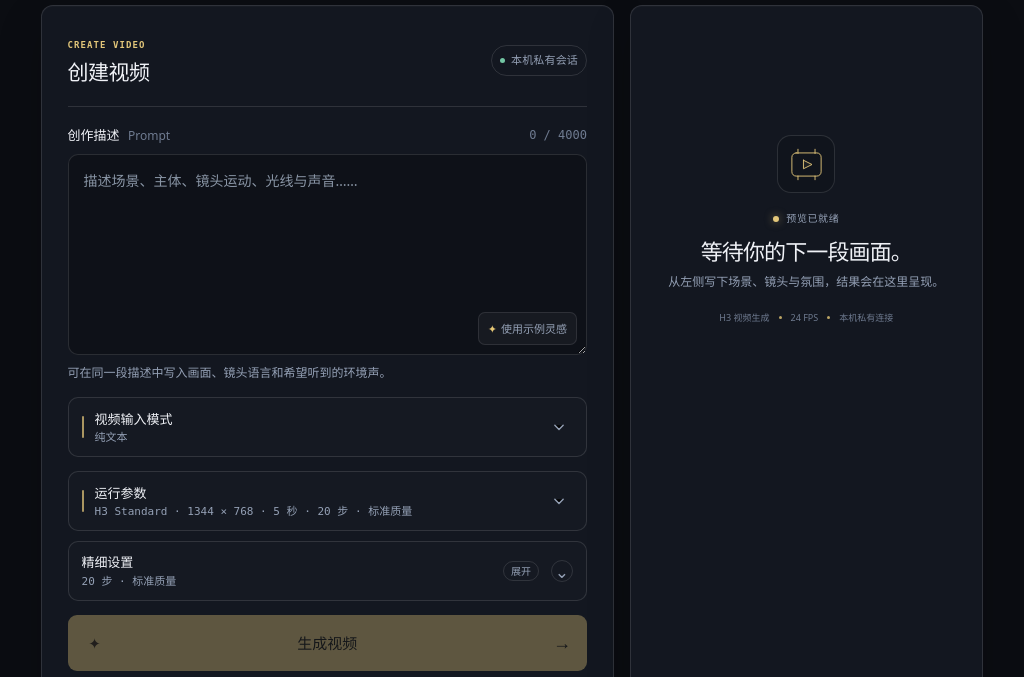
H3 Studio primary screen › lets a creator opt into FirstBlockCache Safe from advanced settings
Click the button "精细设置 20 步 · 标准质量 展开 ⌄" at point(107, 562), box x1=68 y1=542 x2=586 y2=600
(page scrolled)
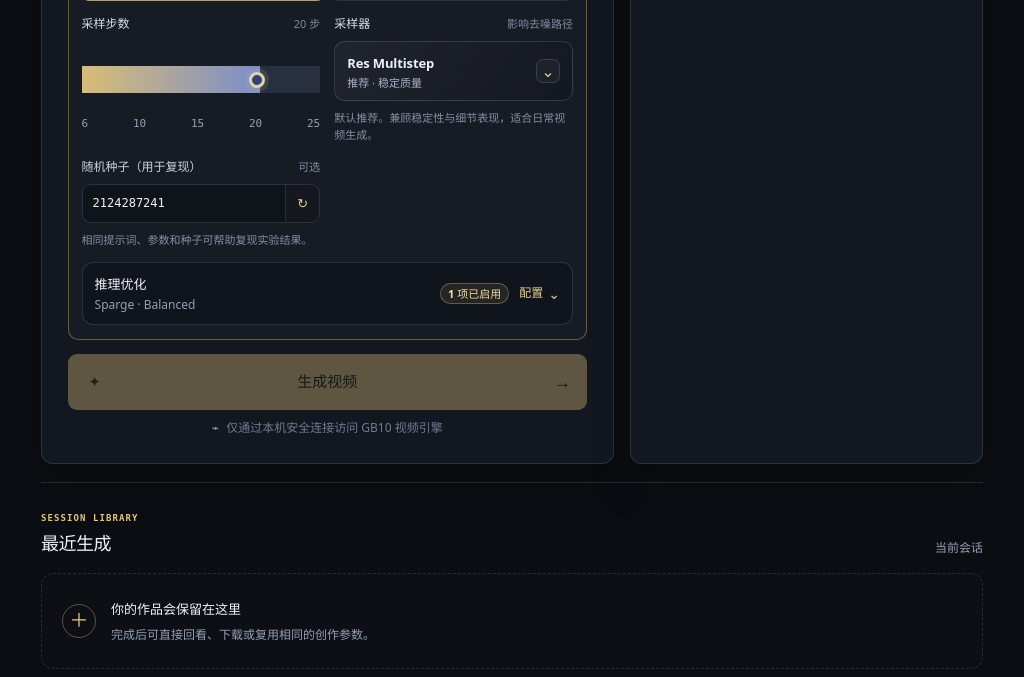
Click the button "推理优化 Sparge · Balanced 1 项已启用 配置 ⌄" at point(121, 284), box x1=82 y1=263 x2=572 y2=324
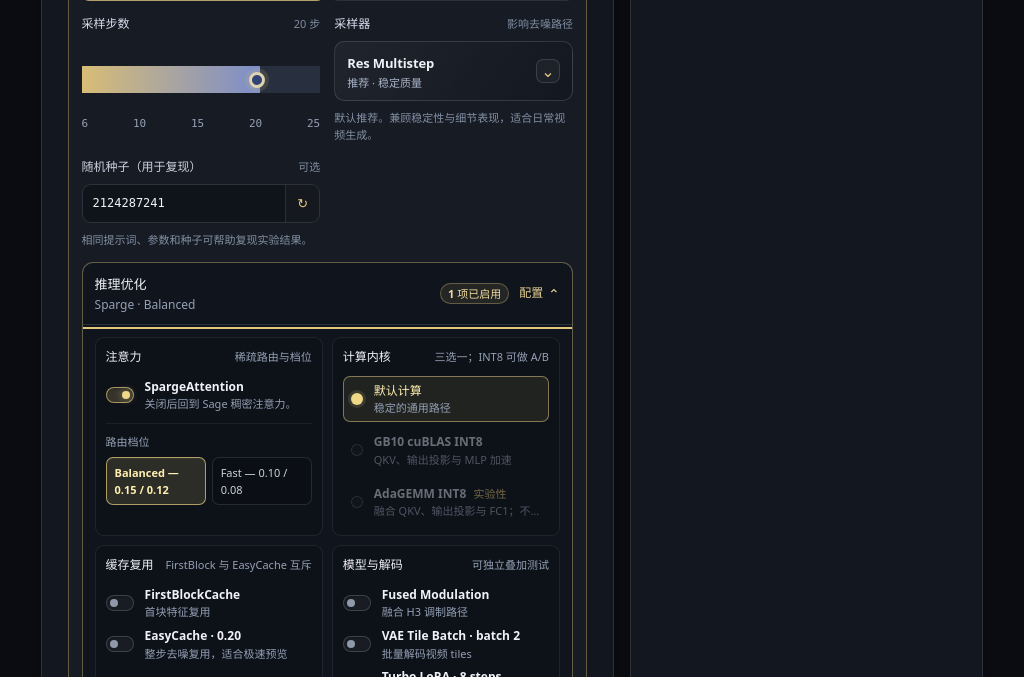
Now the checkbox named "FirstBlockCache Safe" is not checked
Click the checkbox named "FirstBlockCache Safe" at point(173, 602), box x1=106 y1=586 x2=240 y2=619
(page scrolled)
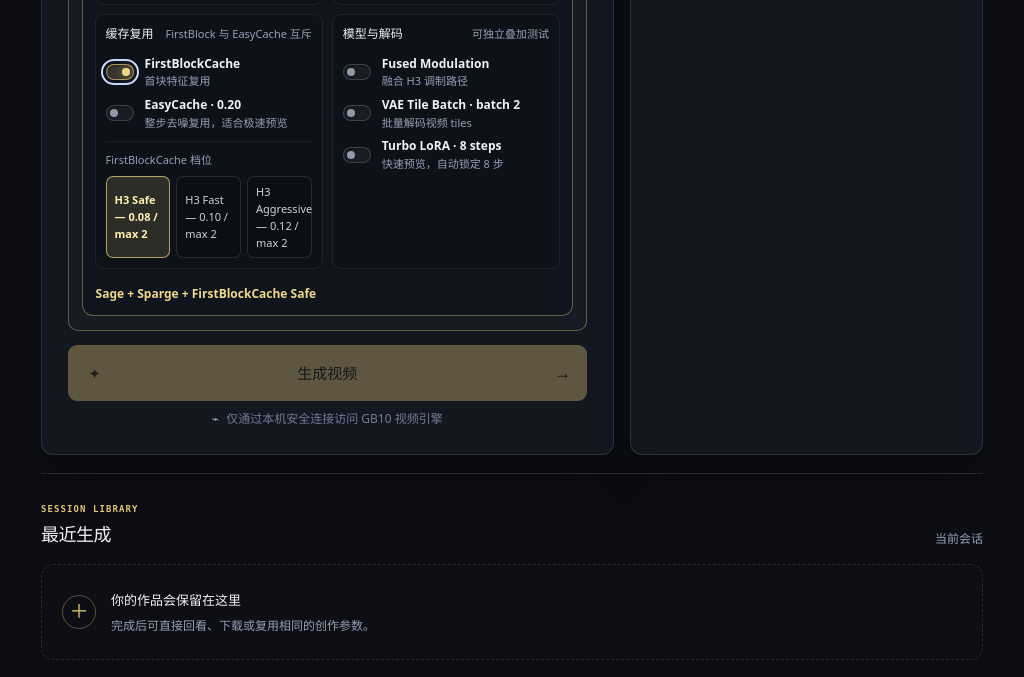
Now the checkbox named "FirstBlockCache Safe" is checked, box x1=106 y1=55 x2=240 y2=88
Now the text "Sage + Sparge + FirstBlockCache Safe" is shown, box x1=96 y1=285 x2=316 y2=302
